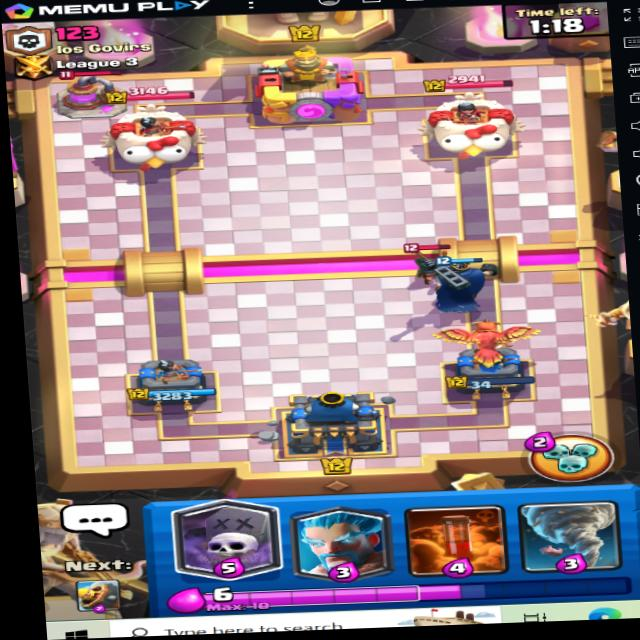bandit: (393, 239, 460, 288)
elixir-collector: (53, 70, 131, 119)
